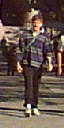person: (23, 10, 48, 111)
